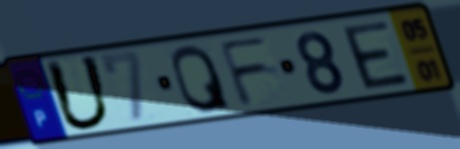7: (95, 46, 152, 127)
8: (295, 30, 347, 96)
E: (338, 18, 413, 92)
F: (214, 33, 272, 110)
Q: (169, 41, 234, 115)
U: (41, 53, 116, 134)
